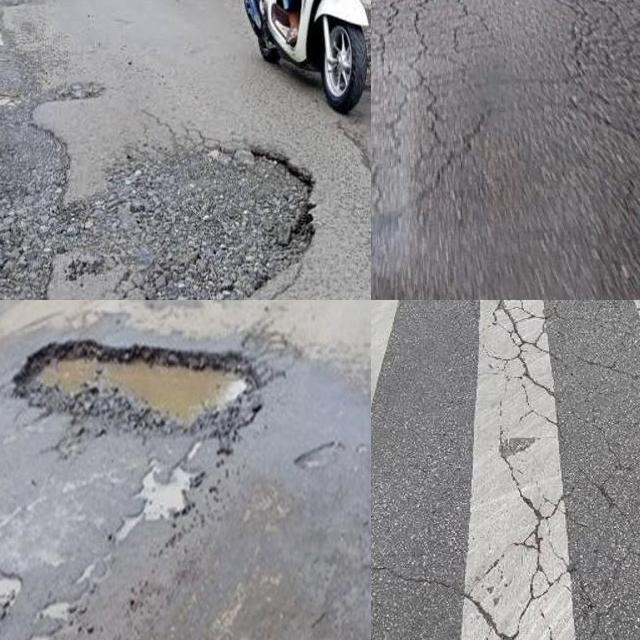Lubang: (113, 148, 327, 300), (17, 345, 257, 440)
Retak Buaya: (371, 0, 489, 254), (480, 300, 640, 441)
